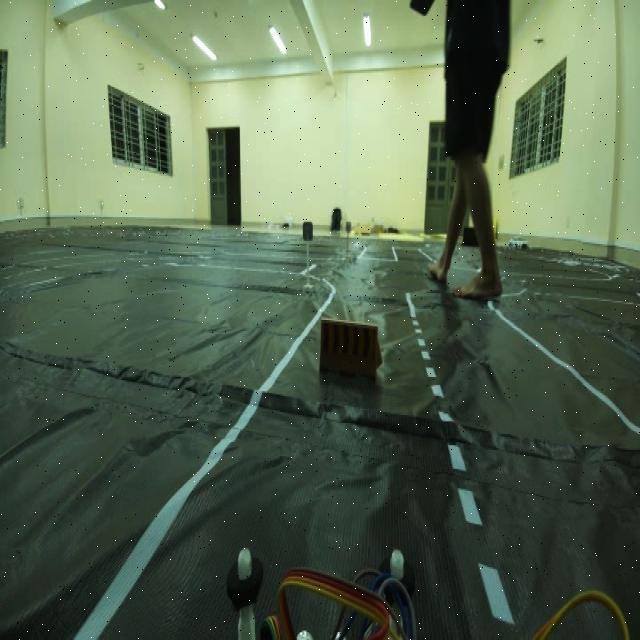roadblock: (316, 294, 397, 398)
